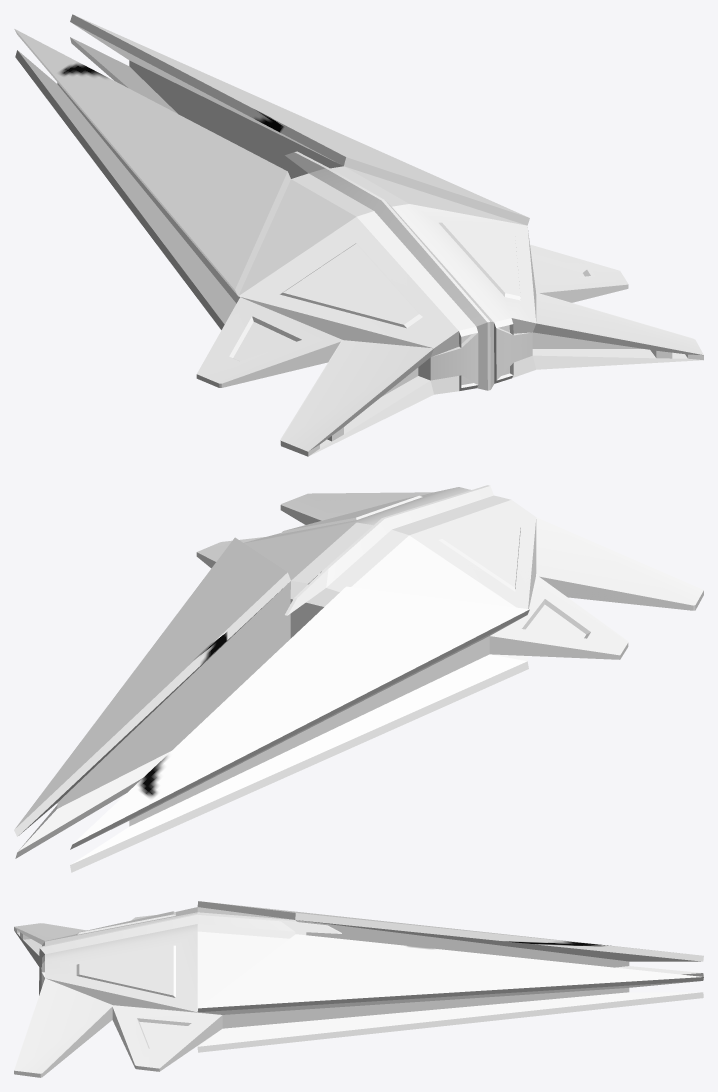
Rendered from Omicron.fbx.
The picture shows the model from 3 angles, top to bottom: view 1: azimuth 30°, elevation 25°; view 2: azimuth 150°, elevation 25°; view 3: azimuth 270°, elevation 25°; orthographic projection. The views are drawn at different scales.
Parts seen in each view (by area): view 1: Omicron_High; view 2: Omicron_High; view 3: Omicron_High.
Part boxes in pixels (<box>): Omicron_High: <box>14,14,703,456</box>; Omicron_High: <box>14,485,703,872</box>; Omicron_High: <box>14,901,703,1077</box>.
Bounding box in the file's own units: 6.07 × 1.9 × 11.49.
1 material, 1 textured.
